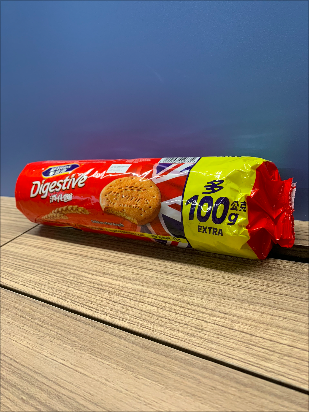Cookies_500-599g: (26, 165, 276, 240)
